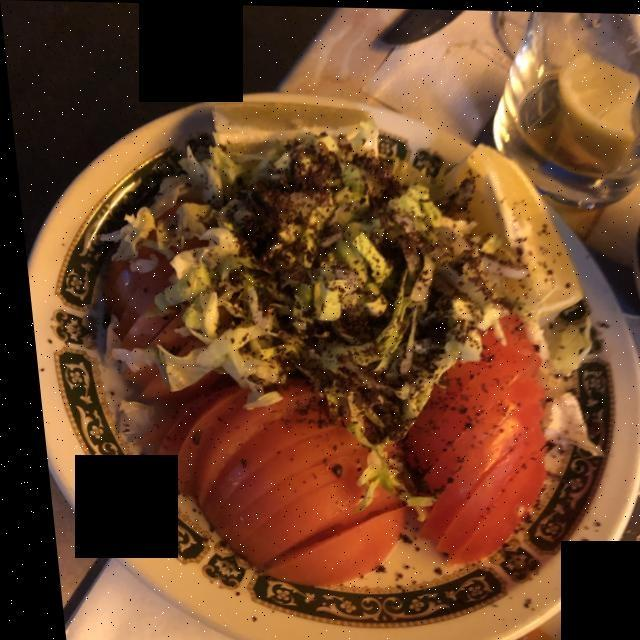lemon: (203, 103, 578, 314)
salad: (129, 135, 508, 451)
tomato: (102, 262, 537, 581)
